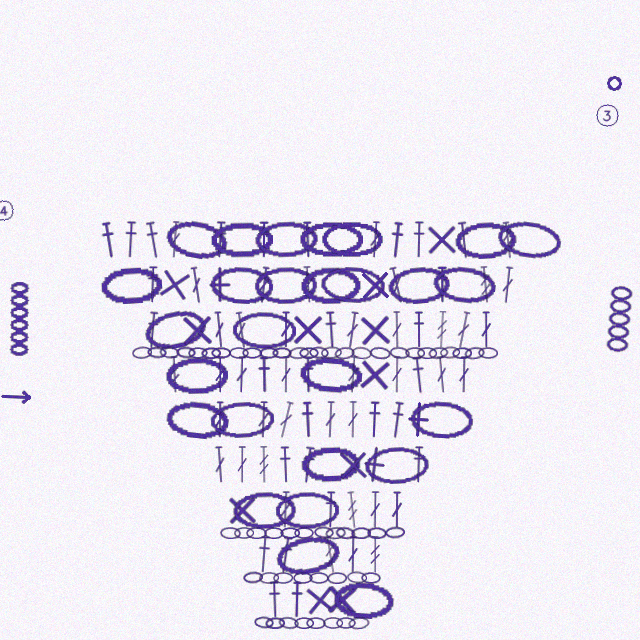chain: (141, 305, 209, 354), (273, 531, 342, 579), (163, 216, 231, 263), (495, 217, 564, 263), (431, 263, 497, 307), (164, 398, 230, 441), (298, 354, 363, 396), (386, 264, 451, 306), (409, 399, 475, 440), (364, 445, 430, 485), (209, 400, 275, 440), (209, 265, 274, 305), (320, 265, 385, 305), (332, 580, 396, 620), (99, 265, 163, 305), (454, 220, 518, 260), (254, 220, 318, 259), (275, 491, 340, 529), (232, 491, 296, 529), (232, 311, 296, 349), (254, 266, 318, 304), (300, 445, 362, 484), (165, 356, 228, 394), (210, 221, 273, 259), (299, 221, 363, 258), (300, 266, 362, 304), (321, 221, 384, 258), (348, 616, 370, 630), (288, 346, 310, 360), (369, 346, 391, 360), (278, 616, 299, 630), (325, 526, 346, 540), (335, 526, 356, 540), (334, 346, 355, 360), (351, 346, 372, 360), (389, 346, 410, 360), (428, 346, 449, 360), (464, 346, 485, 360), (159, 346, 180, 359), (321, 346, 342, 359), (254, 616, 274, 629), (243, 571, 263, 584), (347, 571, 367, 584), (314, 526, 334, 539), (385, 526, 405, 539), (132, 346, 152, 359), (147, 346, 167, 359), (176, 346, 196, 359), (309, 346, 329, 359), (440, 346, 460, 359), (220, 527, 241, 539), (246, 527, 267, 539), (265, 617, 285, 629), (294, 617, 314, 629), (306, 617, 326, 629), (323, 617, 343, 629), (336, 617, 356, 629), (259, 572, 279, 584), (273, 572, 293, 584), (293, 572, 313, 584), (309, 572, 329, 584), (327, 572, 347, 584), (361, 572, 381, 584), (234, 527, 254, 539), (264, 527, 284, 539), (280, 527, 300, 539), (294, 527, 314, 539), (351, 527, 371, 539), (367, 527, 387, 539), (188, 347, 208, 359), (201, 347, 221, 359), (211, 347, 231, 359), (229, 347, 249, 359), (242, 347, 262, 359), (259, 347, 279, 359), (272, 347, 292, 359), (299, 347, 319, 359), (405, 347, 425, 359), (417, 347, 437, 359), (452, 347, 472, 359), (478, 347, 498, 359)
double: (276, 401, 296, 439), (387, 266, 407, 304), (454, 311, 473, 349), (233, 311, 250, 349), (344, 311, 361, 349), (188, 266, 205, 304), (256, 266, 272, 304), (500, 266, 515, 304), (434, 356, 449, 393), (212, 311, 227, 348), (213, 446, 227, 483), (346, 356, 360, 393), (301, 266, 315, 303), (168, 221, 182, 258), (368, 221, 382, 258), (279, 491, 292, 528), (257, 401, 270, 438), (324, 401, 337, 438), (235, 356, 248, 393), (347, 536, 359, 573), (369, 491, 381, 528), (391, 491, 403, 528), (236, 446, 248, 483), (214, 401, 226, 438), (347, 401, 359, 438), (214, 356, 226, 393), (280, 356, 292, 393), (391, 356, 403, 393), (458, 356, 470, 393), (280, 311, 292, 348), (391, 311, 403, 348), (480, 311, 492, 348)
enseble_chain: (604, 285, 635, 354), (7, 281, 32, 359)
half_double: (143, 221, 163, 259), (276, 536, 295, 574), (99, 221, 118, 259), (299, 446, 317, 484), (388, 401, 406, 439), (455, 221, 473, 259), (410, 356, 427, 394), (144, 311, 161, 349), (388, 221, 405, 259), (256, 536, 272, 573), (323, 311, 339, 348), (212, 221, 228, 258), (267, 581, 282, 618), (323, 491, 338, 528), (278, 446, 293, 483), (411, 446, 426, 483), (300, 401, 315, 438), (367, 401, 382, 438), (145, 266, 160, 303), (123, 221, 138, 258), (300, 221, 315, 258), (290, 581, 304, 618), (257, 356, 271, 393), (301, 356, 315, 393), (412, 311, 426, 348), (435, 266, 449, 303), (257, 221, 271, 258), (412, 221, 426, 258)
noise: (594, 102, 620, 128), (0, 390, 33, 404), (0, 197, 17, 224), (605, 74, 624, 93)
single: (153, 263, 196, 306), (354, 444, 395, 485), (300, 580, 340, 620), (322, 580, 361, 619), (399, 400, 438, 439), (355, 355, 394, 394), (223, 491, 261, 529), (334, 446, 372, 484), (178, 311, 216, 349), (356, 311, 394, 349), (356, 266, 394, 304), (289, 311, 326, 348), (201, 266, 238, 303), (423, 221, 460, 258)
treble: (322, 536, 339, 574), (500, 221, 516, 259), (345, 491, 360, 529), (478, 266, 493, 303), (435, 311, 449, 348), (168, 356, 181, 393), (369, 536, 381, 573), (258, 446, 270, 483)
